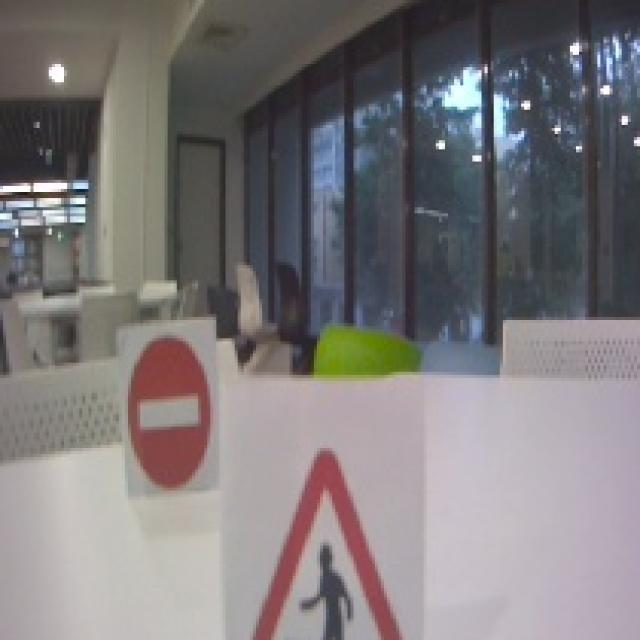DoNotEnterSign: (129, 336, 216, 493)
